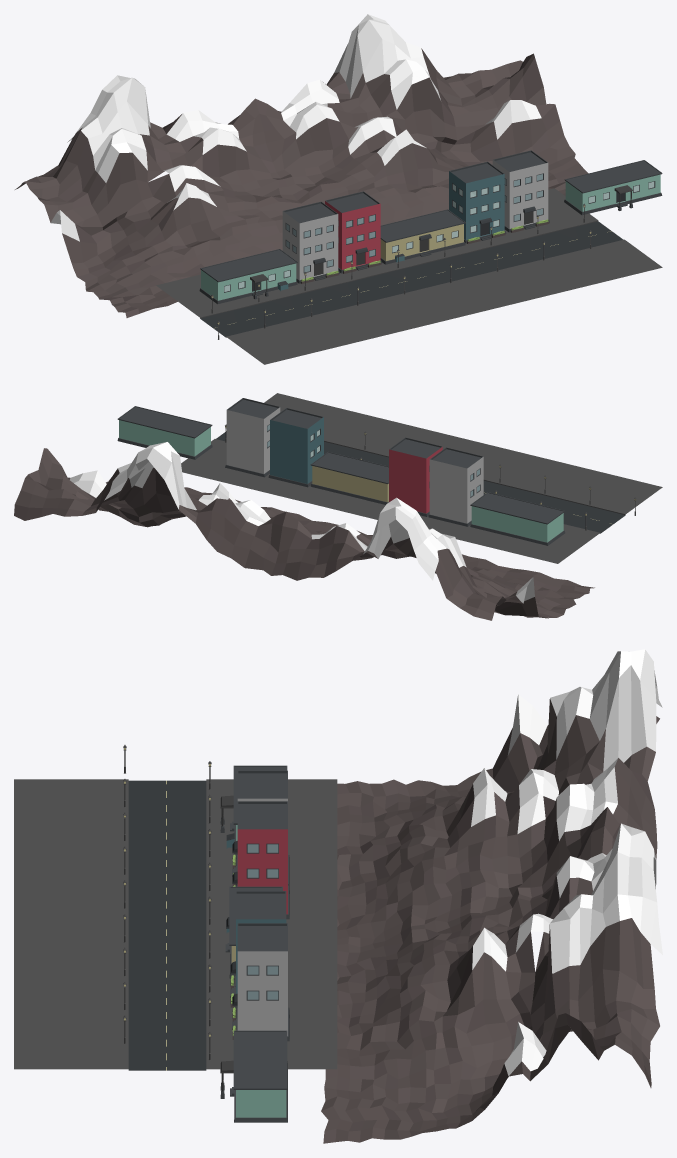
File: CenaCidade.FBX
3 renders of one model, top to bottom at view 1: azimuth 30°, elevation 25°; view 2: azimuth 150°, elevation 25°; view 3: azimuth 270°, elevation 25°, orthographic. The views are drawn at different scales.
Parts seen in each view (by area): view 1: Montanha, Rua, CASA07, Casa03, casa08, CaSA01, casa02, Casa05, CASA04, Postes; view 2: Montanha, Rua, CASA07, Casa03, casa08, casa02, CaSA01, CASA04, Casa05; view 3: Montanha, Rua, casa02, CaSA01, Casa05, Casa03, CASA07, Postes, casa08, CASA04.
Part boxes in pixels (<box>): Montanha: <box>15,14,588,317</box>; Rua: <box>156,188,662,364</box>; CASA07: <box>282,201,339,283</box>; Casa03: <box>449,161,506,244</box>; casa08: <box>199,249,297,304</box>; CaSA01: <box>564,160,662,215</box>; casa02: <box>492,150,549,232</box>; Casa05: <box>325,191,382,273</box>; CASA04: <box>380,209,465,264</box>; Postes: <box>211,203,591,339</box>; Montanha: <box>14,442,594,620</box>; Rua: <box>181,393,662,563</box>; CASA07: <box>428,447,483,526</box>; Casa03: <box>268,408,323,487</box>; casa08: <box>470,492,565,545</box>; casa02: <box>225,398,280,477</box>; CaSA01: <box>117,406,212,459</box>; CASA04: <box>310,451,388,504</box>; Casa05: <box>389,437,442,516</box>; Montanha: <box>321,649,662,1143</box>; Rua: <box>14,779,337,1070</box>; casa02: <box>232,923,289,1041</box>; CaSA01: <box>220,1030,287,1122</box>; Casa05: <box>232,801,289,919</box>; Casa03: <box>230,891,286,1008</box>; CASA07: <box>232,770,289,887</box>; Postes: <box>123,745,211,1060</box>; casa08: <box>220,765,287,856</box>; CASA04: <box>225,886,282,978</box>.
Bounding box in the file's own units: 3271 × 879 × 2420.
